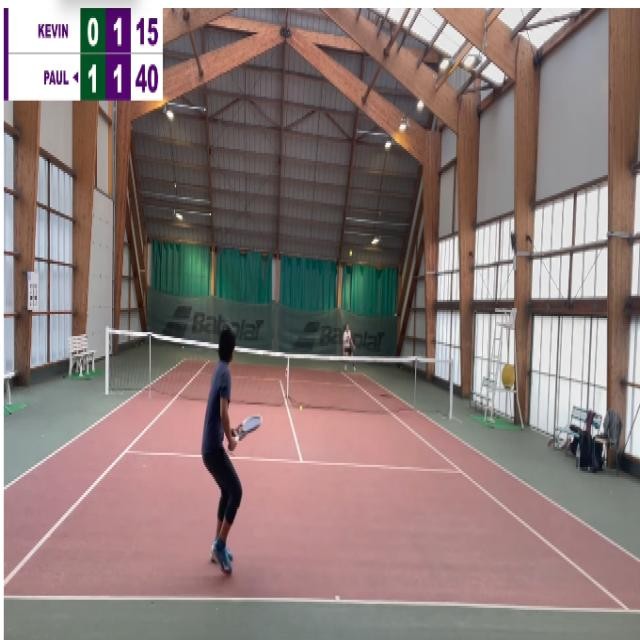ball: (349, 248, 352, 256), (300, 406, 303, 412)
